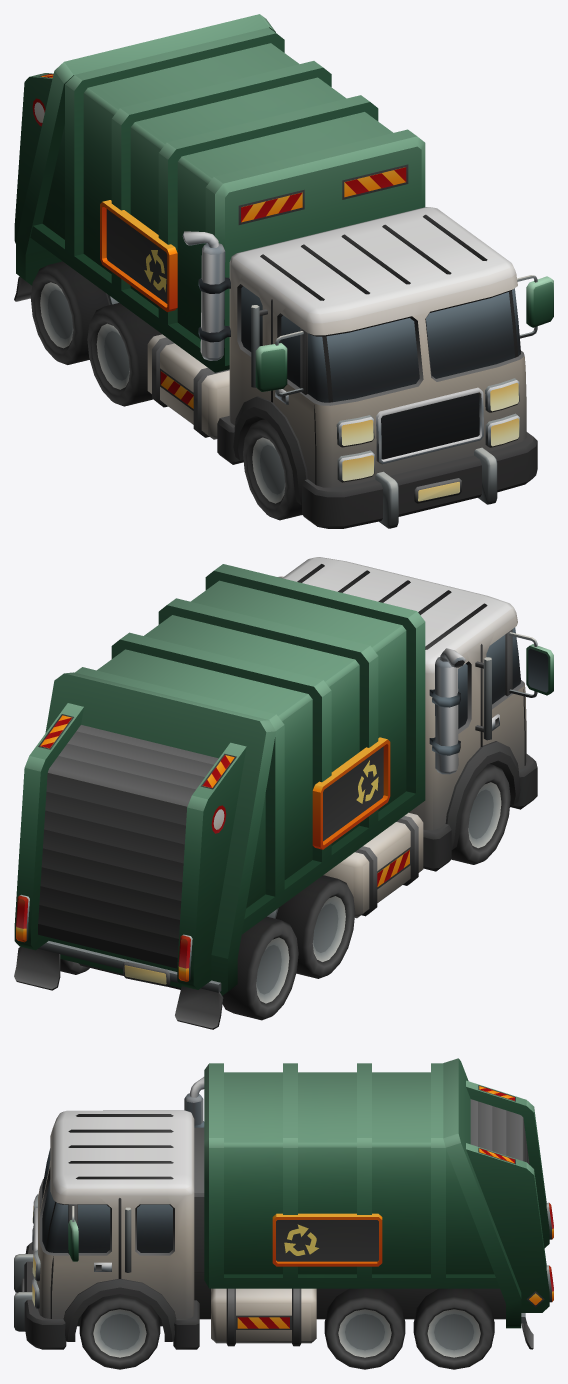
The model's file is Truck_1B.fbx.
3 views of the same model, one above another, from view 1: azimuth 30°, elevation 25°; view 2: azimuth 150°, elevation 25°; view 3: azimuth 270°, elevation 25° (orthographic). The views are drawn at different scales.
Parts seen in each view (by area): view 1: Truck_1B, Truck_1B_Wheel_R.R, Truck_1B_Wheel_M,R, Truck_1B_Wheel_F.R; view 2: Truck_1B, Truck_1B_Wheel_R.R, Truck_1B_Wheel_M,R, Truck_1B_Wheel_F.R; view 3: Truck_1B, Truck_1B_Wheel_M.L, Truck_1B_Wheel_R.L, Truck_1B_Wheel_F.L.
Part boxes in pixels (bbox=[...]): Truck_1B: bbox=[14, 14, 553, 528]; Truck_1B_Wheel_R.R: bbox=[30, 261, 110, 364]; Truck_1B_Wheel_M,R: bbox=[87, 303, 161, 406]; Truck_1B_Wheel_F.R: bbox=[243, 419, 301, 520]; Truck_1B: bbox=[14, 557, 553, 1029]; Truck_1B_Wheel_R.R: bbox=[222, 916, 298, 1020]; Truck_1B_Wheel_M,R: bbox=[275, 875, 355, 978]; Truck_1B_Wheel_F.R: bbox=[451, 764, 510, 864]; Truck_1B: bbox=[14, 1058, 553, 1349]; Truck_1B_Wheel_M.L: bbox=[324, 1288, 405, 1369]; Truck_1B_Wheel_R.L: bbox=[413, 1288, 494, 1369]; Truck_1B_Wheel_F.L: bbox=[79, 1294, 160, 1369].
Size of the model in its own units: 3.64 by 3.47 by 7.3.
